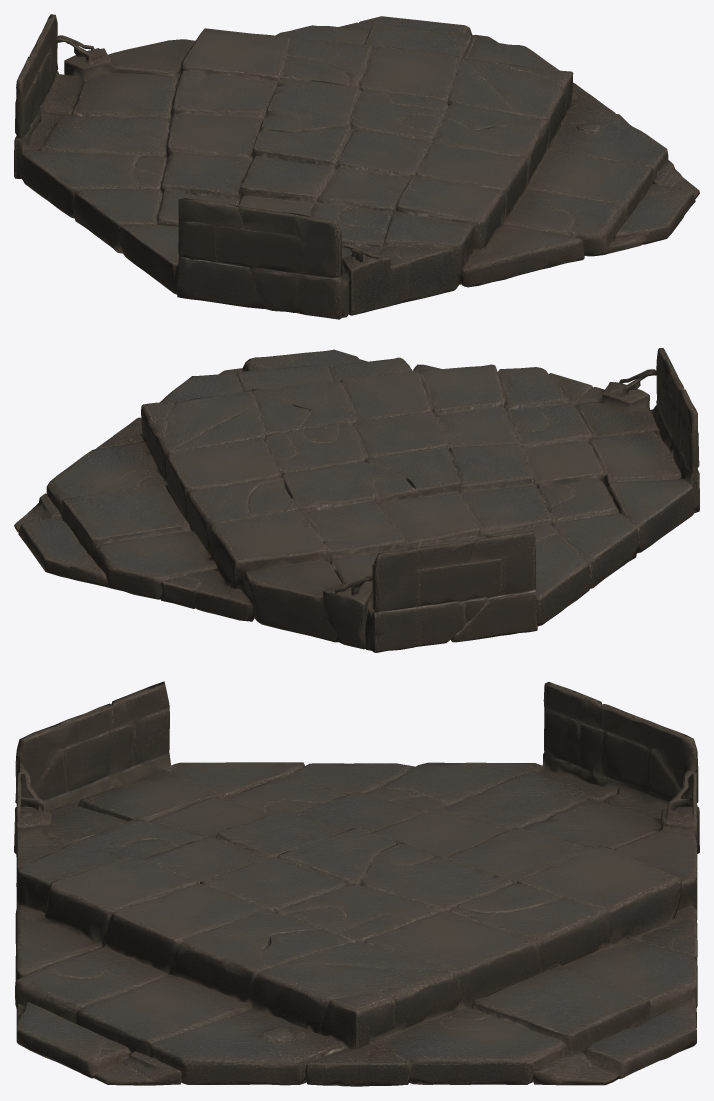
Rendered from v2_floor.glb.
3 views of the same model, one above another, from view 1: azimuth 30°, elevation 25°; view 2: azimuth 150°, elevation 25°; view 3: azimuth 270°, elevation 25° (orthographic). The views are drawn at different scales.
Parts seen in each view (by area): view 1: tripo_node_02d036f5-fc53-460b-add6-6f5d109c292b; view 2: tripo_node_02d036f5-fc53-460b-add6-6f5d109c292b; view 3: tripo_node_02d036f5-fc53-460b-add6-6f5d109c292b.
Part boxes in pixels (x1,y1,x2,y2): tripo_node_02d036f5-fc53-460b-add6-6f5d109c292b: (14, 14, 699, 319); tripo_node_02d036f5-fc53-460b-add6-6f5d109c292b: (14, 348, 699, 652); tripo_node_02d036f5-fc53-460b-add6-6f5d109c292b: (14, 681, 699, 1086).
Bounding box in the file's own units: 0.9981 × 0.1927 × 1.
1 material, 1 textured.
